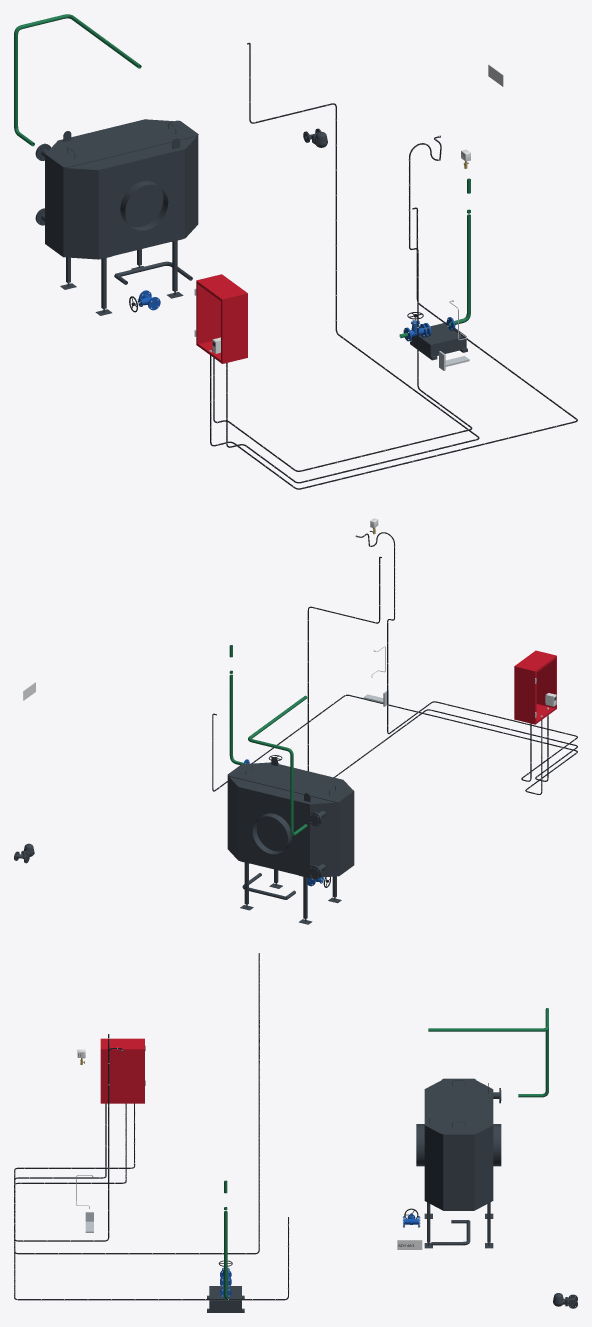
3 renders of one model, top to bottom at view 1: azimuth 30°, elevation 25°; view 2: azimuth 150°, elevation 25°; view 3: azimuth 270°, elevation 25°, orthographic. The views are drawn at different scales.
Parts seen in each view (by area): view 1: EQS2-4000 CAD 0, EQS2-4000 CAD 3, control_cabinet / control_cabinet_0.npz, EQS2-4000 CAD 1, gpz_drive_cable / black, wiring_pump_2 / black, wiring_pressure_transmitter / black, pump_branch_1 / dark, from_economizer / green, pump_branch_1 / green; view 2: EQS2-4000 CAD 0, EQS2-4000 CAD 3, control_cabinet / control_cabinet_0.npz, EQS2-4000 CAD 2, gpz_drive_cable / black, wiring_pump_2 / black, wiring_pressure_transmitter / black, from_economizer / green; view 3: EQS2-4000 CAD 3, control_cabinet / control_cabinet_0.npz, gpz_drive_cable / black, EQS2-4000 CAD 0, wiring_pump_2 / black, wiring_pressure_transmitter / black, from_economizer / green, pump_branch_1 / dark.
Boxes of the visible parts, x1,y1,x2,y2 form: EQS2-4000 CAD 0: [60, 149, 185, 315]; EQS2-4000 CAD 3: [45, 119, 198, 256]; control_cabinet / control_cabinet_0.npz: [194, 274, 247, 363]; EQS2-4000 CAD 1: [63, 168, 98, 259]; gpz_drive_cable / black: [226, 42, 479, 483]; wiring_pump_2 / black: [210, 207, 577, 489]; wiring_pressure_transmitter / black: [213, 136, 472, 471]; pump_branch_1 / dark: [410, 322, 467, 360]; from_economizer / green: [14, 14, 141, 146]; pump_branch_1 / green: [399, 178, 470, 337]; EQS2-4000 CAD 0: [238, 787, 341, 924]; EQS2-4000 CAD 3: [227, 757, 354, 875]; control_cabinet / control_cabinet_0.npz: [514, 650, 556, 724]; EQS2-4000 CAD 2: [308, 802, 339, 879]; gpz_drive_cable / black: [307, 556, 577, 781]; wiring_pump_2 / black: [212, 694, 577, 794]; wiring_pressure_transmitter / black: [357, 532, 577, 781]; from_economizer / green: [248, 695, 307, 836]; EQS2-4000 CAD 3: [424, 1078, 493, 1210]; control_cabinet / control_cabinet_0.npz: [100, 1038, 145, 1103]; gpz_drive_cable / black: [14, 953, 259, 1254]; EQS2-4000 CAD 0: [416, 1124, 501, 1248]; wiring_pump_2 / black: [14, 1103, 288, 1300]; wiring_pressure_transmitter / black: [14, 1034, 134, 1241]; from_economizer / green: [428, 1008, 548, 1097]; pump_branch_1 / dark: [207, 1286, 244, 1312].
Bounding box in the file's own units: 5.38 × 3.71 × 6.74.
